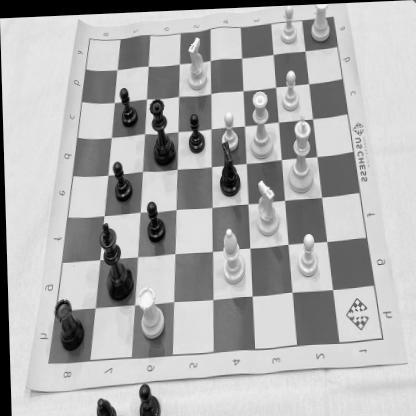black-king: (96, 218, 132, 304)
black-knight: (217, 138, 242, 196)
black-pawn: (143, 197, 167, 242), (110, 157, 134, 201), (186, 110, 208, 153), (117, 82, 138, 126)
black-queen: (148, 96, 176, 166)
black-rook: (52, 292, 85, 350)
white-bishop: (219, 225, 246, 285)
white-king: (284, 112, 316, 193)
white-knight: (252, 176, 278, 236)
white-pawn: (294, 230, 319, 278), (219, 108, 240, 151), (280, 67, 300, 111), (278, 5, 298, 46)
white-queen: (246, 86, 276, 160)
white-rook: (134, 278, 164, 340), (307, 3, 333, 45)
